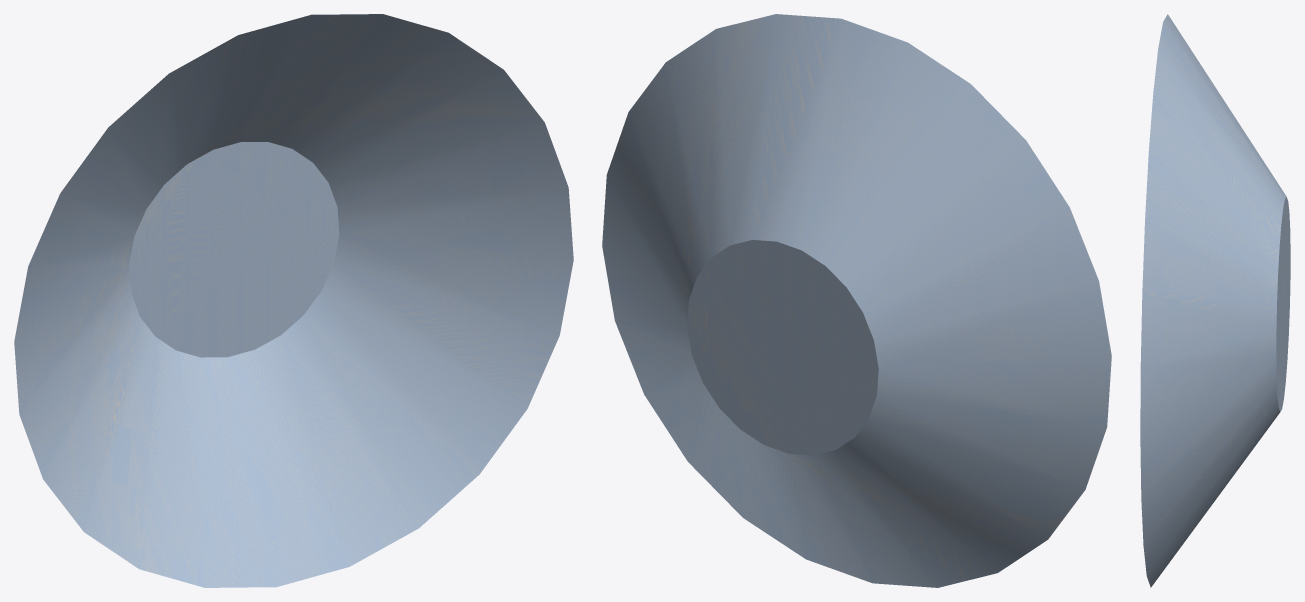
Rendered from original-37.obj.
3 views of the same model, side by side, from view 1: azimuth 30°, elevation 25°; view 2: azimuth 150°, elevation 25°; view 3: azimuth 270°, elevation 25° (orthographic). The views are drawn at different scales.
Parts seen in each view (by area): view 1: 3dw.47c68395a5775e10d9deb3f829cc2475/Model/Component_18_1/Compon; view 2: 3dw.47c68395a5775e10d9deb3f829cc2475/Model/Component_18_1/Compon; view 3: 3dw.47c68395a5775e10d9deb3f829cc2475/Model/Component_18_1/Compon.
Part boxes in pixels (x1,y1,x2,y2): 3dw.47c68395a5775e10d9deb3f829cc2475/Model/Component_18_1/Compon: (14, 14, 573, 587); 3dw.47c68395a5775e10d9deb3f829cc2475/Model/Component_18_1/Compon: (602, 14, 1111, 587); 3dw.47c68395a5775e10d9deb3f829cc2475/Model/Component_18_1/Compon: (1140, 14, 1290, 587).
Size of the model in its own units: 0.05 by 0.0501 by 0.0131.
